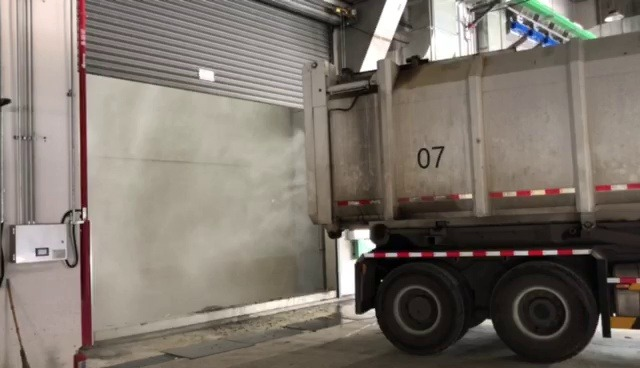dust: (90, 130, 308, 306)
truck: (290, 28, 640, 365)
